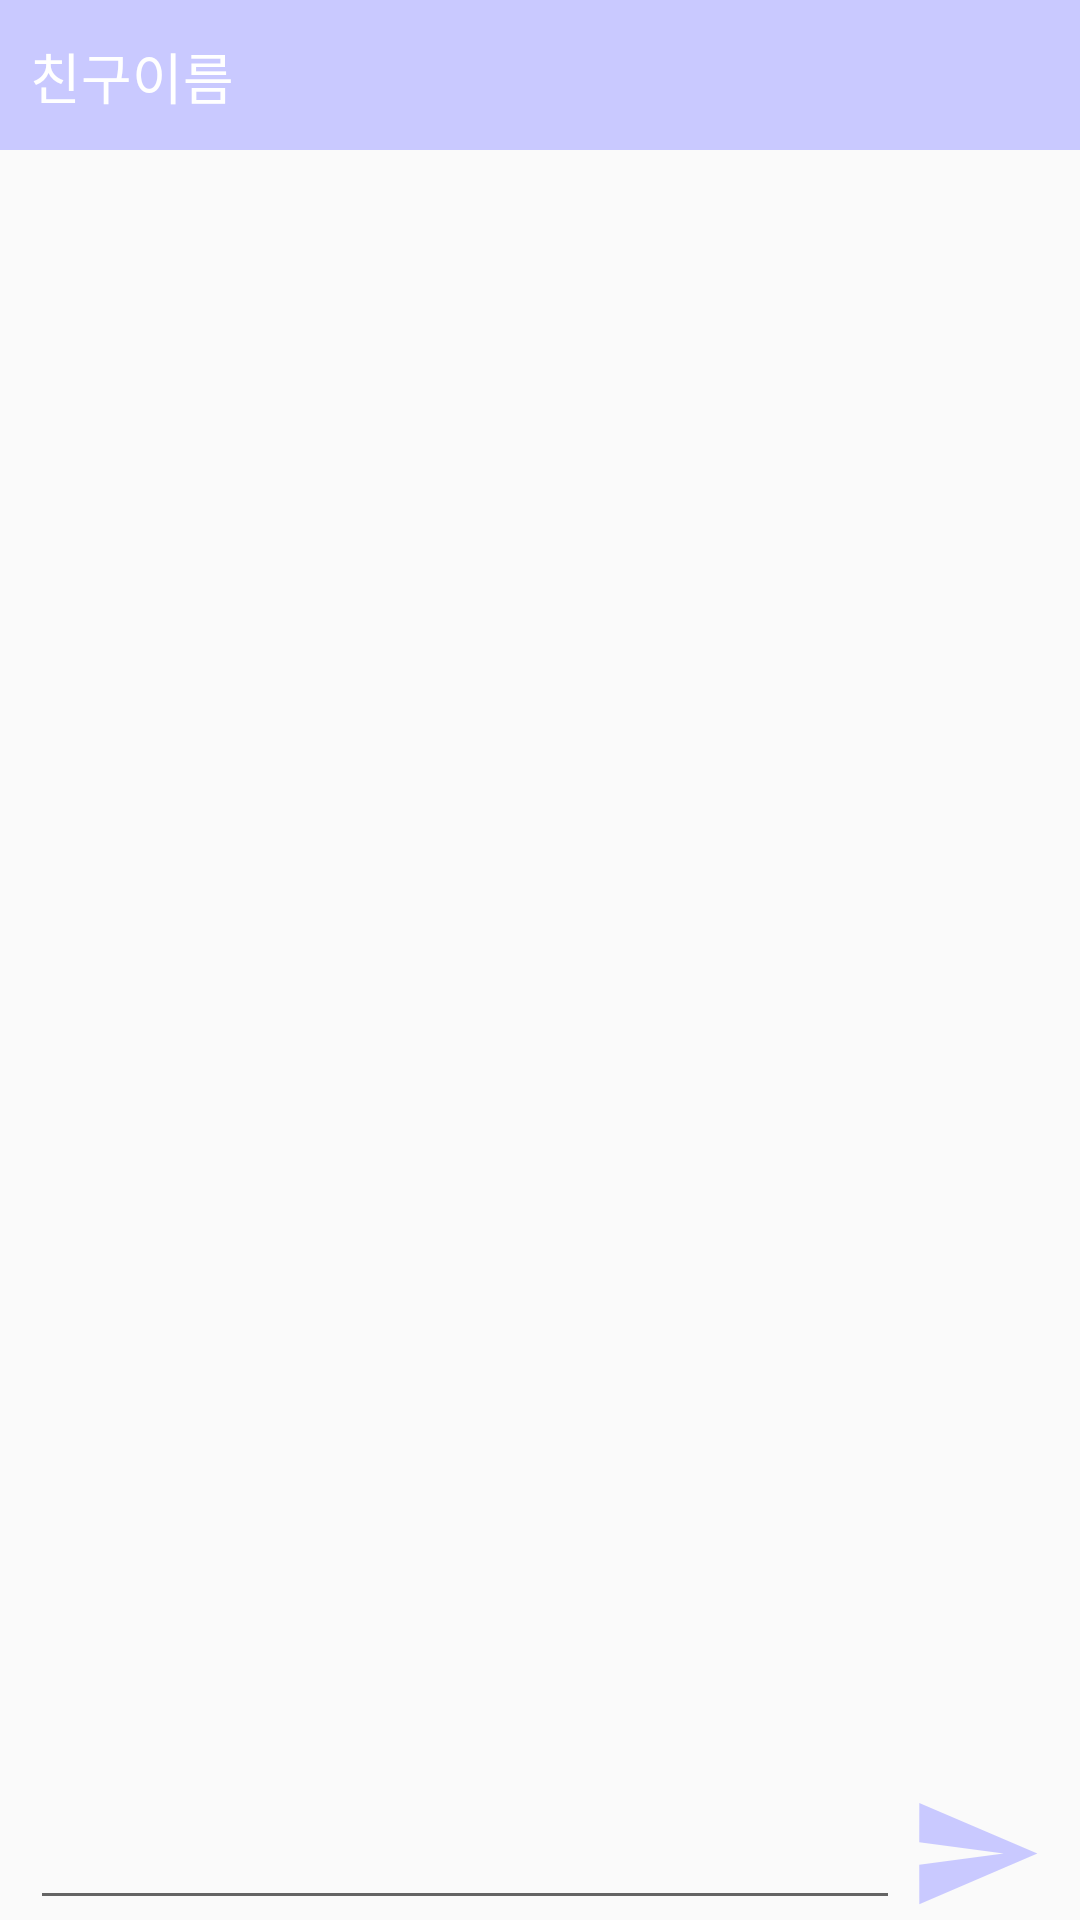

Named icons in this screenshot (1080w x 1920h) and their centers, (x=x, y=y):
send: (x=978, y=1853)
